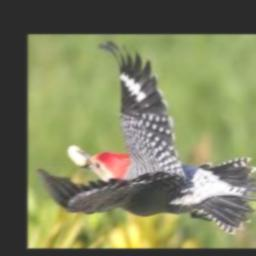Woodpecker: (37, 40, 256, 234)
